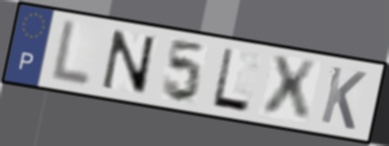5: (158, 37, 209, 104)
K: (317, 63, 369, 133)
L: (47, 17, 94, 91), (209, 45, 253, 116)
N: (100, 27, 157, 98)
X: (261, 53, 319, 124)
